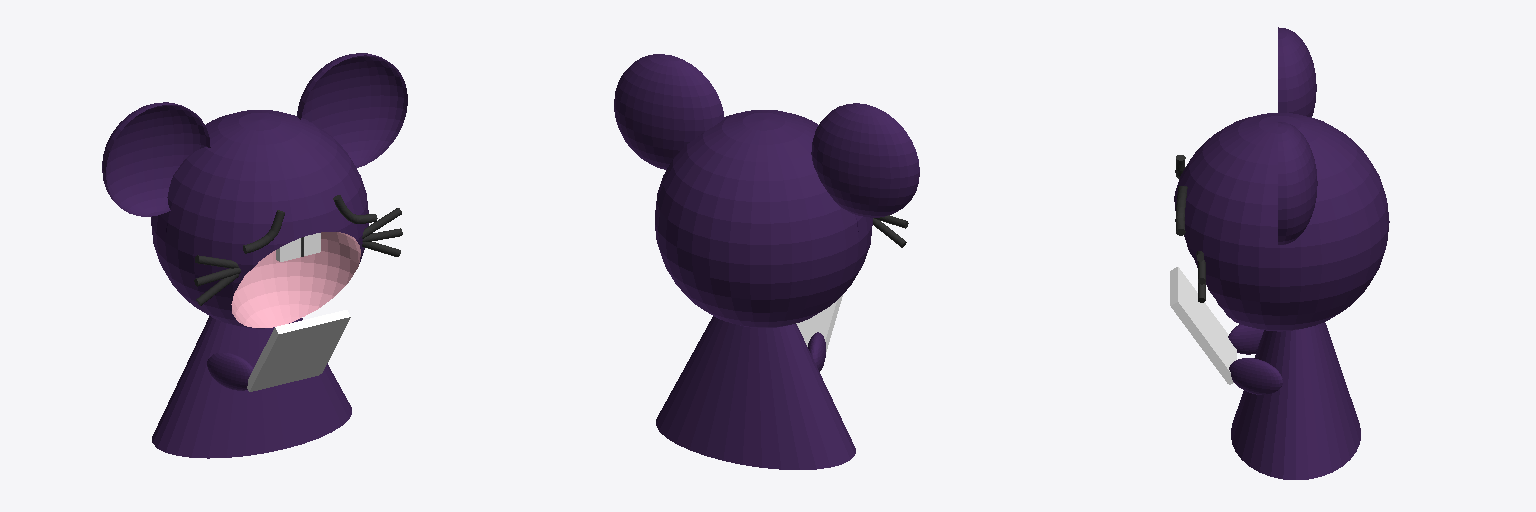
3 renders of one model, left to right at view 1: azimuth 30°, elevation 25°; view 2: azimuth 150°, elevation 25°; view 3: azimuth 270°, elevation 25°, orthographic.
Parts seen in each view (by area): view 1: 顔; view 2: 顔; view 3: 顔.
Part boxes in pixels (bbox=[...]): 顔: bbox=[102, 53, 407, 458]; 顔: bbox=[614, 54, 919, 469]; 顔: bbox=[1170, 27, 1389, 479].
Size of the model in its own units: 3.18 by 3.54 by 2.
Materials: 1 (1 with a texture image).